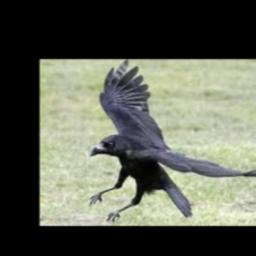Crow: (89, 59, 256, 221)
